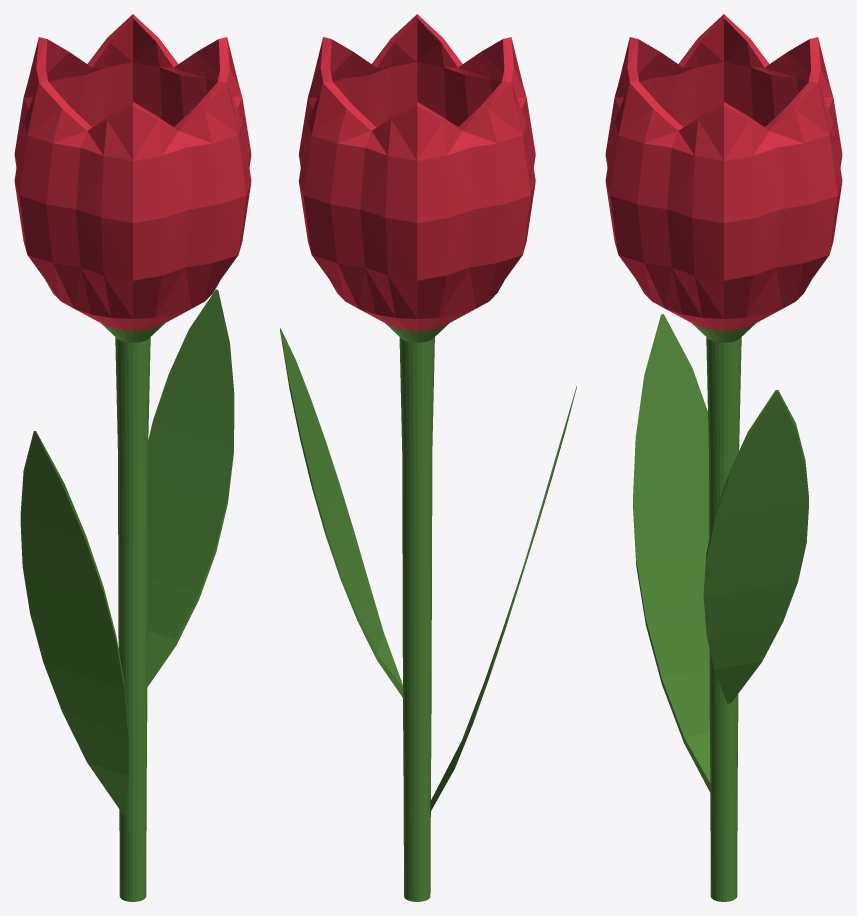
File: NEW_RECOVERY_024_LOD2.fbx
3 views of the same model, side by side, from view 1: azimuth 30°, elevation 25°; view 2: azimuth 150°, elevation 25°; view 3: azimuth 270°, elevation 25° (orthographic).
Visible parts, largest first — view 1: Tulip_whole; view 2: Tulip_whole; view 3: Tulip_whole.
Part boxes in pixels (bbox=[...]): Tulip_whole: bbox=[14, 14, 251, 901]; Tulip_whole: bbox=[280, 14, 576, 901]; Tulip_whole: bbox=[605, 14, 842, 901].
Bounding box in the file's own units: 74.31 × 62.79 × 244.
